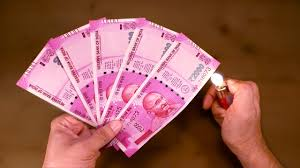twoThousand: (129, 48, 208, 141)
